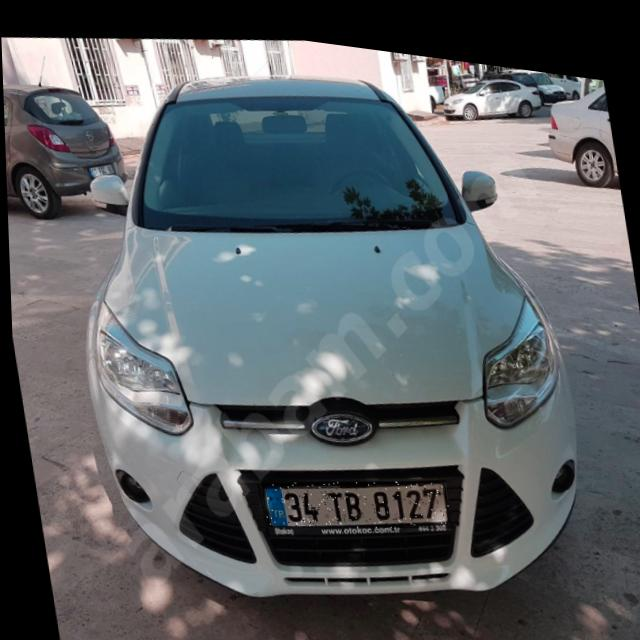license_plate: (256, 450, 448, 538)
